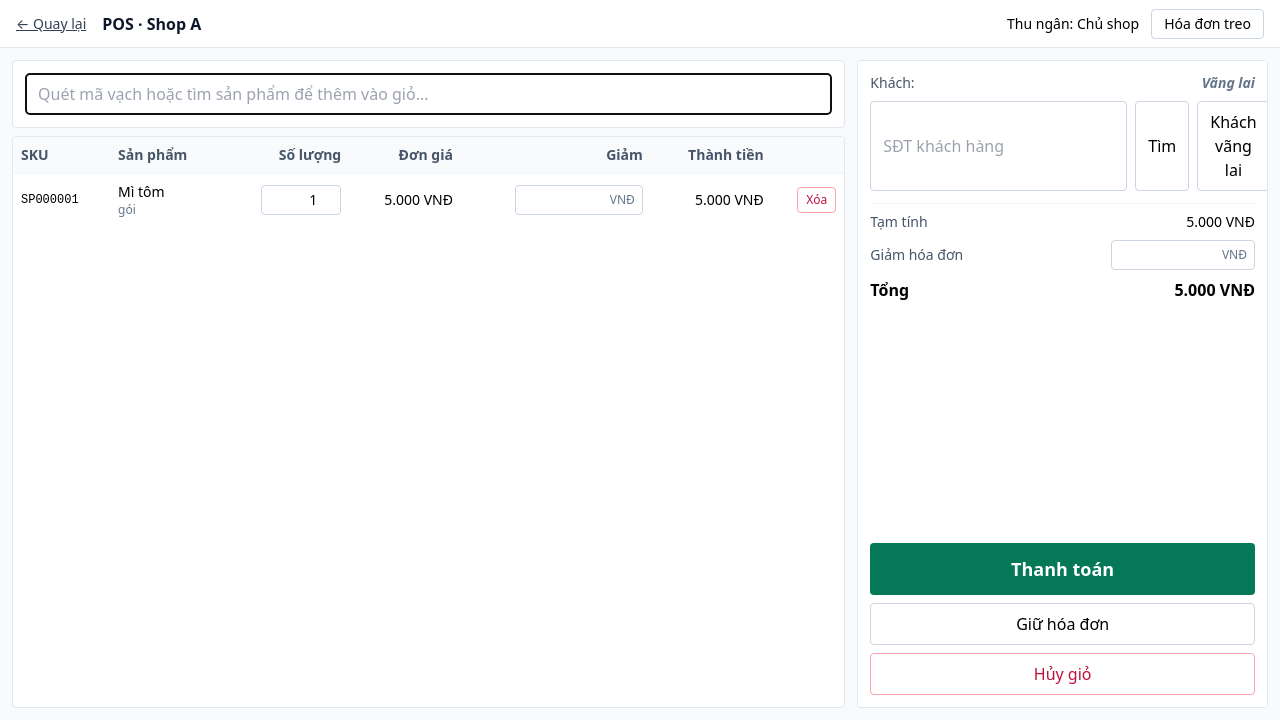
Test: POSScreen › opens PaymentDialog when clicking Thanh toán with items
Click the button "Thanh toán": (1063, 569) [870,543,1255,595]
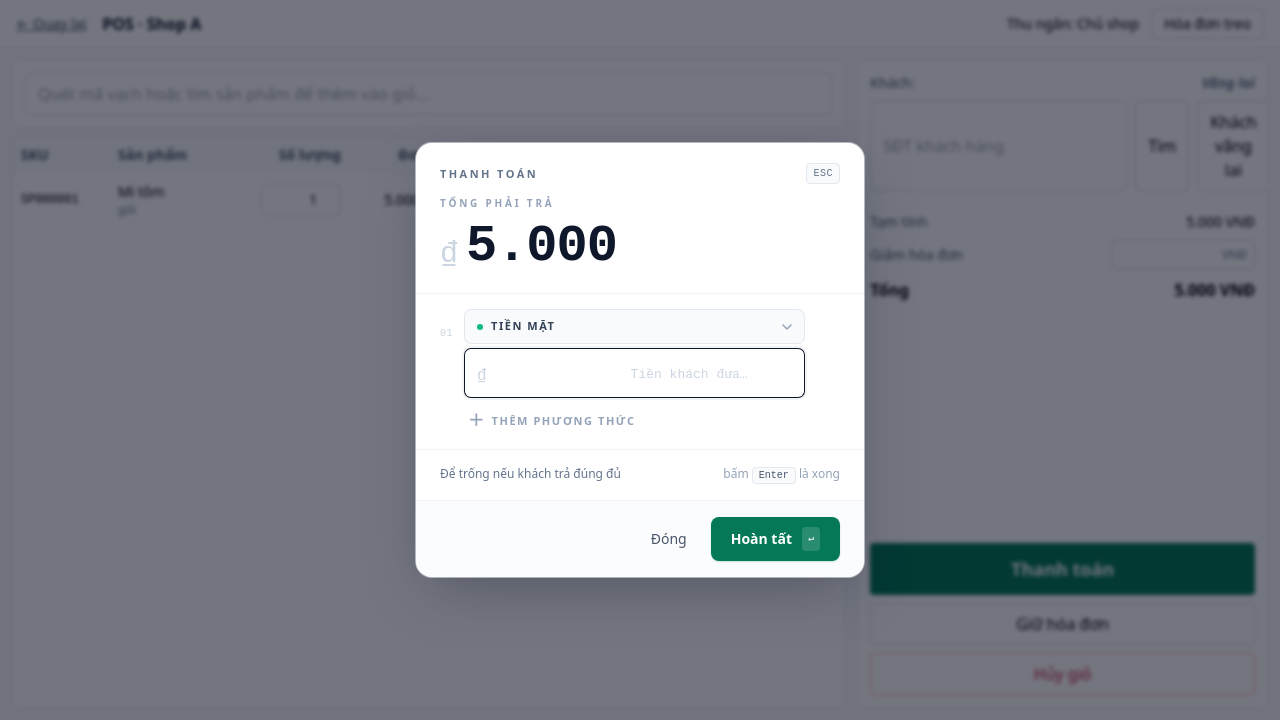
Check: the dialog "Thanh toán" is shown
